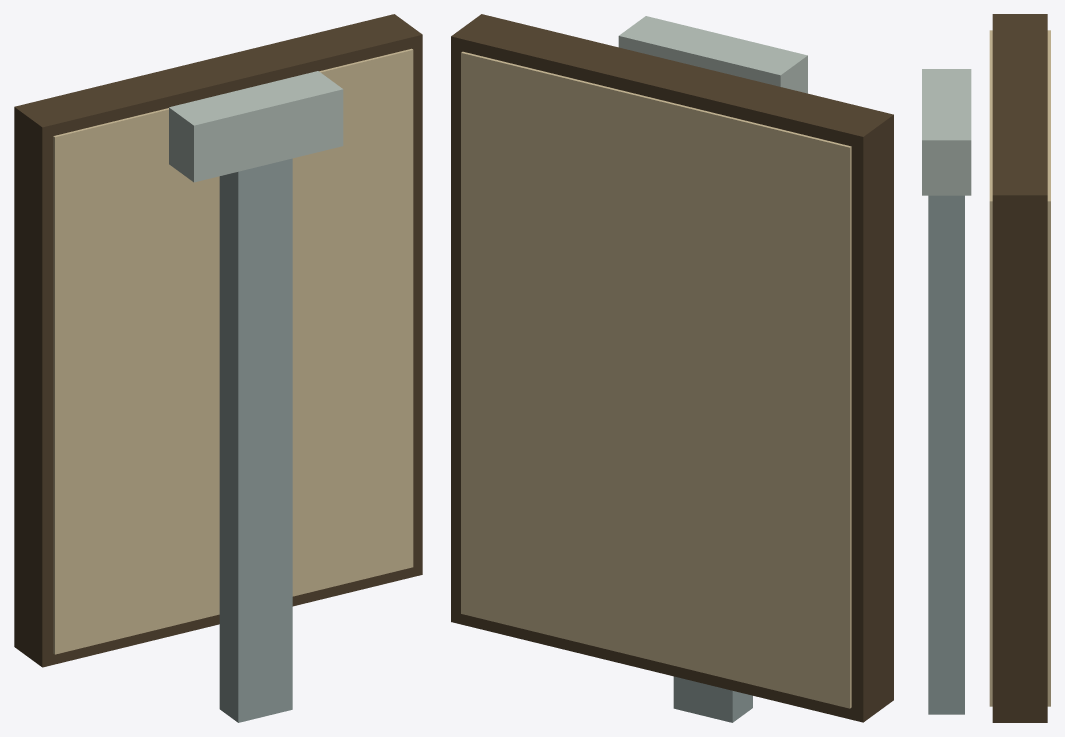
Rendered from story-haru.glb.
3 views of the same model, side by side, from view 1: azimuth 30°, elevation 25°; view 2: azimuth 150°, elevation 25°; view 3: azimuth 270°, elevation 25° (orthographic). The views are drawn at different scales.
Parts seen in each view (by area): view 1: notebook, spanner; view 2: notebook, spanner; view 3: notebook, spanner.
Part boxes in pixels (x1,y1,x2,y2): notebook: (14,14,422,667); spanner: (169,71,343,722); notebook: (451,14,893,722); spanner: (618,16,807,722); notebook: (989,14,1050,722); spanner: (922,69,971,714).
Size of the model in its own units: 0.14 by 0.215 by 0.042.
